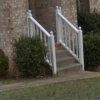stairs: (29, 40, 85, 77)
